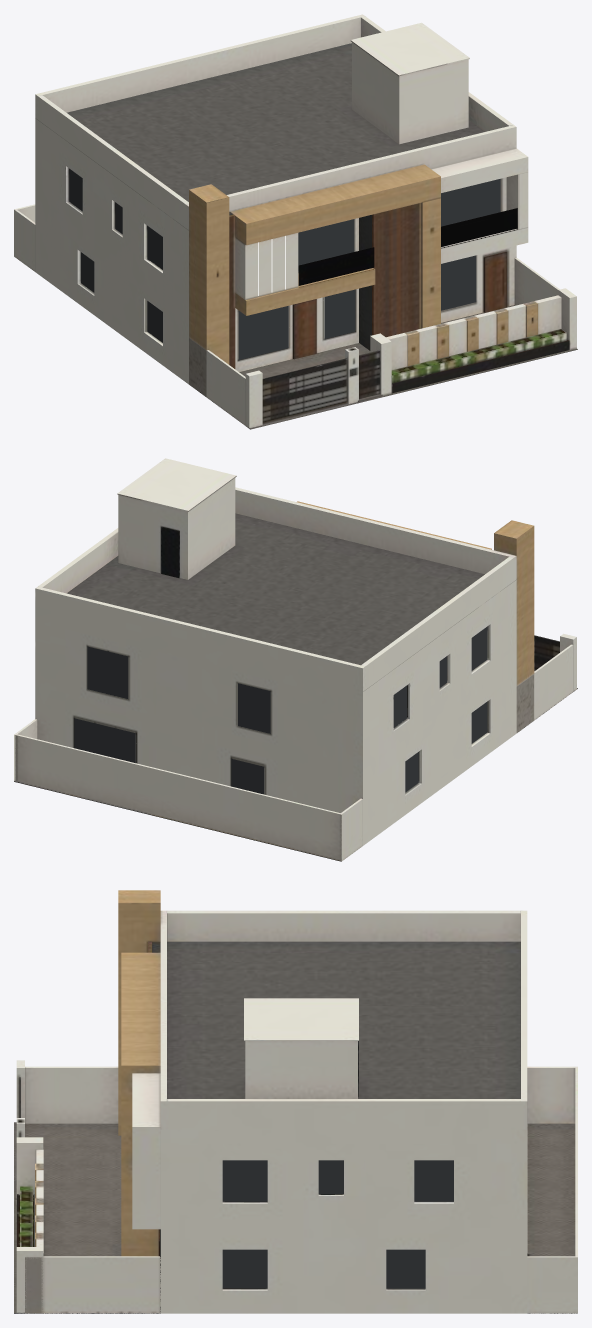
File: house_D_lod1.glb
The picture shows the model from 3 angles, top to bottom: view 1: azimuth 30°, elevation 25°; view 2: azimuth 150°, elevation 25°; view 3: azimuth 270°, elevation 25°; orthographic projection. The views are drawn at different scales.
Visible parts, largest first — view 1: body, glass; view 2: body, glass; view 3: body, glass.
Part boxes in pixels (x1,y1,x2,y2): body: (14,14,577,429); glass: (69,169,500,359); body: (14,458,577,861); glass: (74,627,487,794); body: (14,890,577,1313); glass: (222,1160,453,1288).
Size of the model in its own units: 16 by 10.45 by 20.
Materials: 3 (1 with a texture image).
